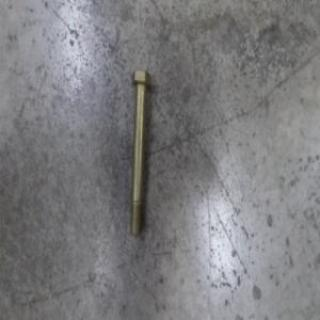Bolttrack_idkeyframe: (128, 65, 152, 241)
